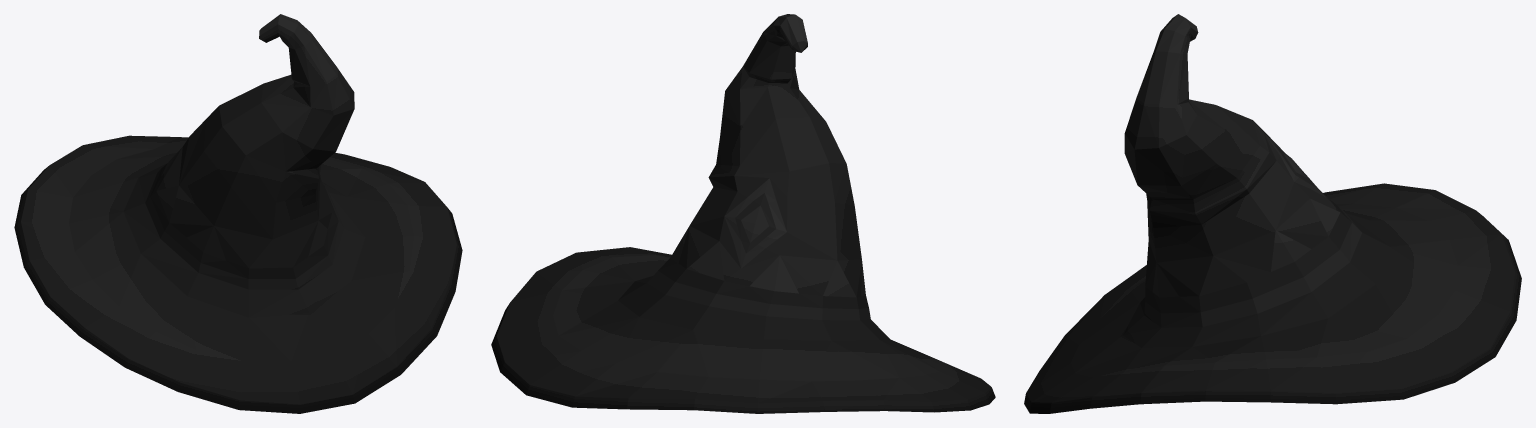
The model's file is CharSkyKid_Horn_WitchHat_01.glb.
The picture shows the model from 3 angles, left to right: view 1: azimuth 30°, elevation 25°; view 2: azimuth 150°, elevation 25°; view 3: azimuth 270°, elevation 25°; orthographic projection. The views are drawn at different scales.
Visible parts, largest first — view 1: CharSkyKid_Horn_WitchHat_01; view 2: CharSkyKid_Horn_WitchHat_01; view 3: CharSkyKid_Horn_WitchHat_01.
Part boxes in pixels (<box>): CharSkyKid_Horn_WitchHat_01: <box>14,14,462,413</box>; CharSkyKid_Horn_WitchHat_01: <box>491,14,995,413</box>; CharSkyKid_Horn_WitchHat_01: <box>1024,14,1521,413</box>.
Bounding box in the file's own units: 6.35 × 5.4 × 6.26.
1 material, 1 textured.
